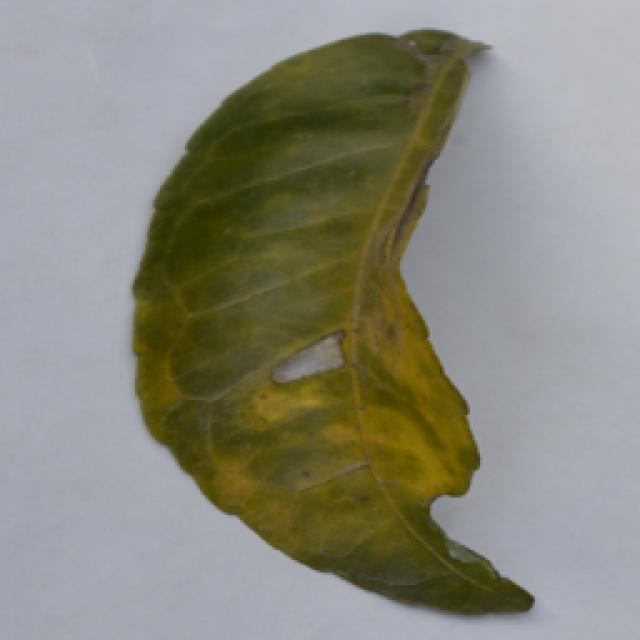greening: (109, 21, 539, 632)
